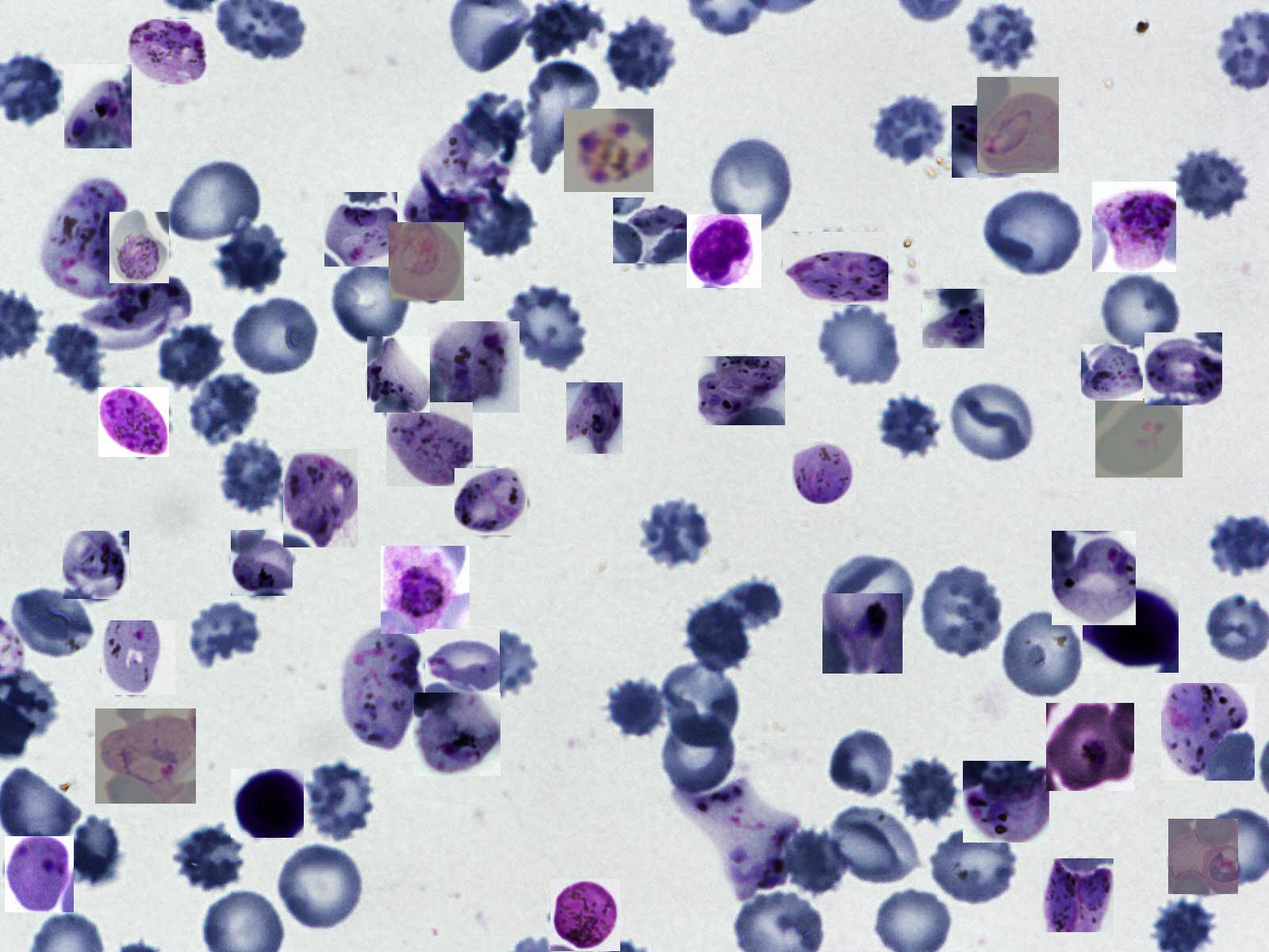Infected: (669, 781, 802, 901), (403, 128, 510, 232), (43, 176, 129, 298), (341, 627, 423, 749), (95, 708, 196, 804), (1083, 577, 1179, 673), (1161, 683, 1255, 781), (79, 276, 194, 351), (427, 322, 519, 413), (1052, 531, 1136, 625), (977, 77, 1059, 173), (381, 547, 470, 635), (1046, 703, 1134, 791), (783, 232, 888, 305), (1092, 182, 1176, 272), (564, 109, 654, 192), (283, 449, 358, 547), (386, 402, 473, 486), (414, 693, 500, 776), (963, 761, 1049, 843), (1095, 398, 1183, 478), (822, 593, 903, 674), (952, 106, 1039, 178), (698, 356, 785, 425), (389, 222, 464, 301), (64, 64, 132, 148), (1144, 332, 1222, 405), (687, 214, 761, 288), (102, 620, 175, 695), (325, 192, 398, 267), (1042, 858, 1114, 932), (128, 19, 208, 85), (1168, 819, 1238, 894), (5, 836, 74, 912), (550, 879, 620, 951), (231, 769, 304, 838), (425, 629, 500, 696), (98, 387, 169, 457), (454, 468, 527, 536), (367, 336, 430, 413), (613, 198, 687, 263), (63, 531, 129, 599), (109, 212, 169, 283), (566, 382, 623, 454), (231, 530, 293, 596), (792, 443, 856, 505), (922, 289, 984, 348), (1081, 344, 1143, 401)
Uninfected: (982, 186, 1086, 278), (165, 158, 265, 248), (274, 840, 367, 933), (919, 565, 1006, 660), (527, 61, 600, 174), (1001, 606, 1086, 702), (945, 375, 1034, 466), (827, 804, 926, 885), (230, 294, 325, 378), (827, 551, 918, 638), (324, 257, 412, 344), (819, 299, 907, 386), (658, 658, 744, 747), (504, 285, 594, 369), (928, 823, 1021, 904), (1098, 269, 1185, 353), (661, 710, 740, 800), (714, 138, 792, 229), (8, 588, 94, 662), (299, 761, 379, 839), (602, 18, 680, 96), (210, 221, 289, 295), (870, 95, 947, 168), (684, 595, 754, 674), (213, 439, 286, 513), (462, 630, 540, 699), (186, 370, 258, 442), (828, 728, 899, 801), (639, 500, 714, 567), (155, 320, 225, 390), (779, 827, 849, 897), (1178, 148, 1249, 217), (527, 0, 604, 63), (188, 601, 261, 666), (464, 191, 532, 259), (46, 322, 107, 397), (967, 3, 1037, 68), (895, 758, 966, 822), (177, 824, 244, 889), (461, 90, 527, 154), (878, 396, 941, 459), (67, 817, 121, 889), (602, 678, 663, 737), (715, 577, 781, 631)
